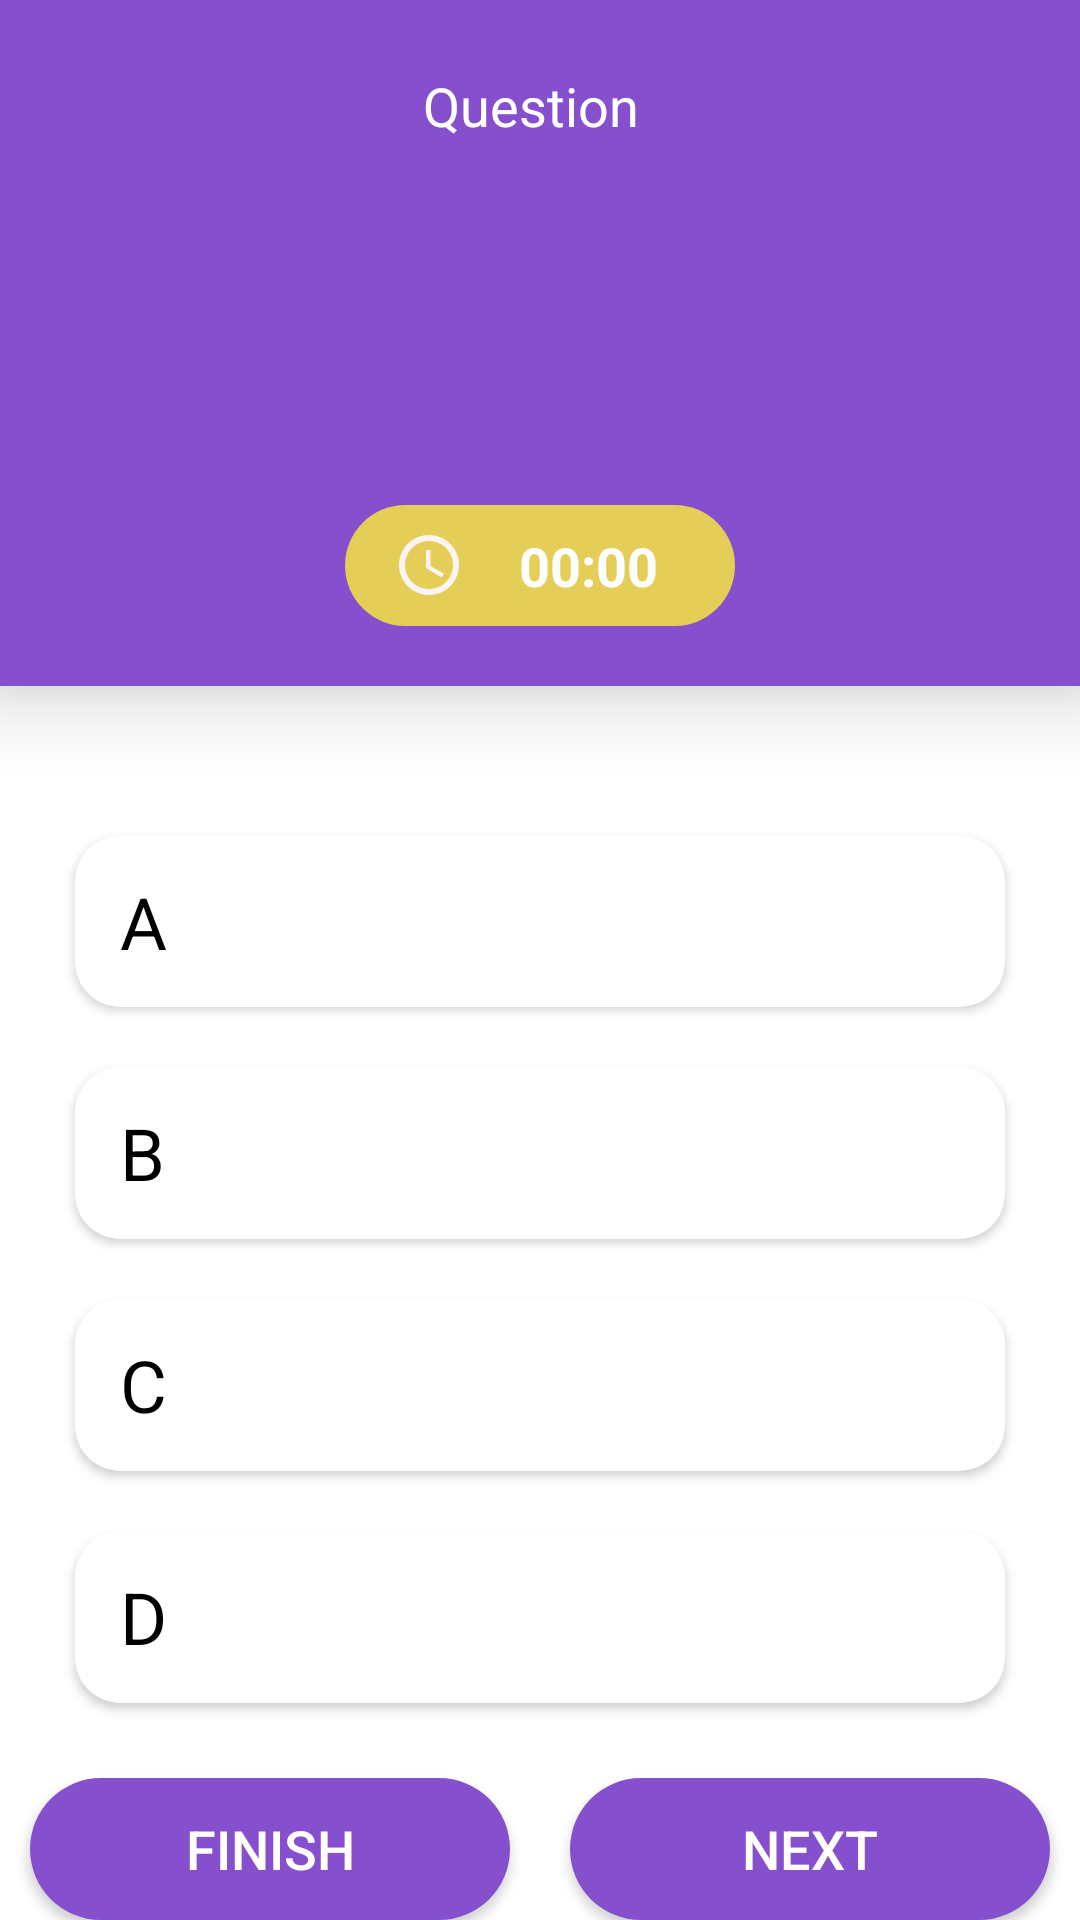

Screen size 1080px x 1920px. Icon name, then its center in pixels as [x,y]:
access time: [429,565]
